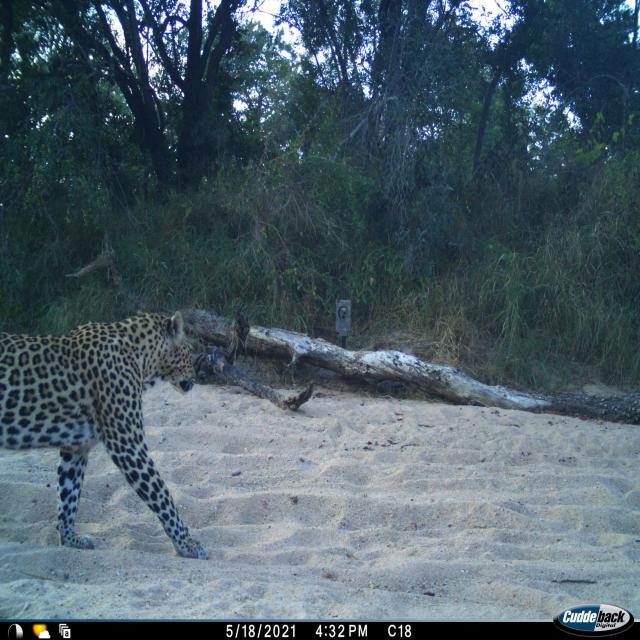Leopard: (6, 314, 221, 586)
